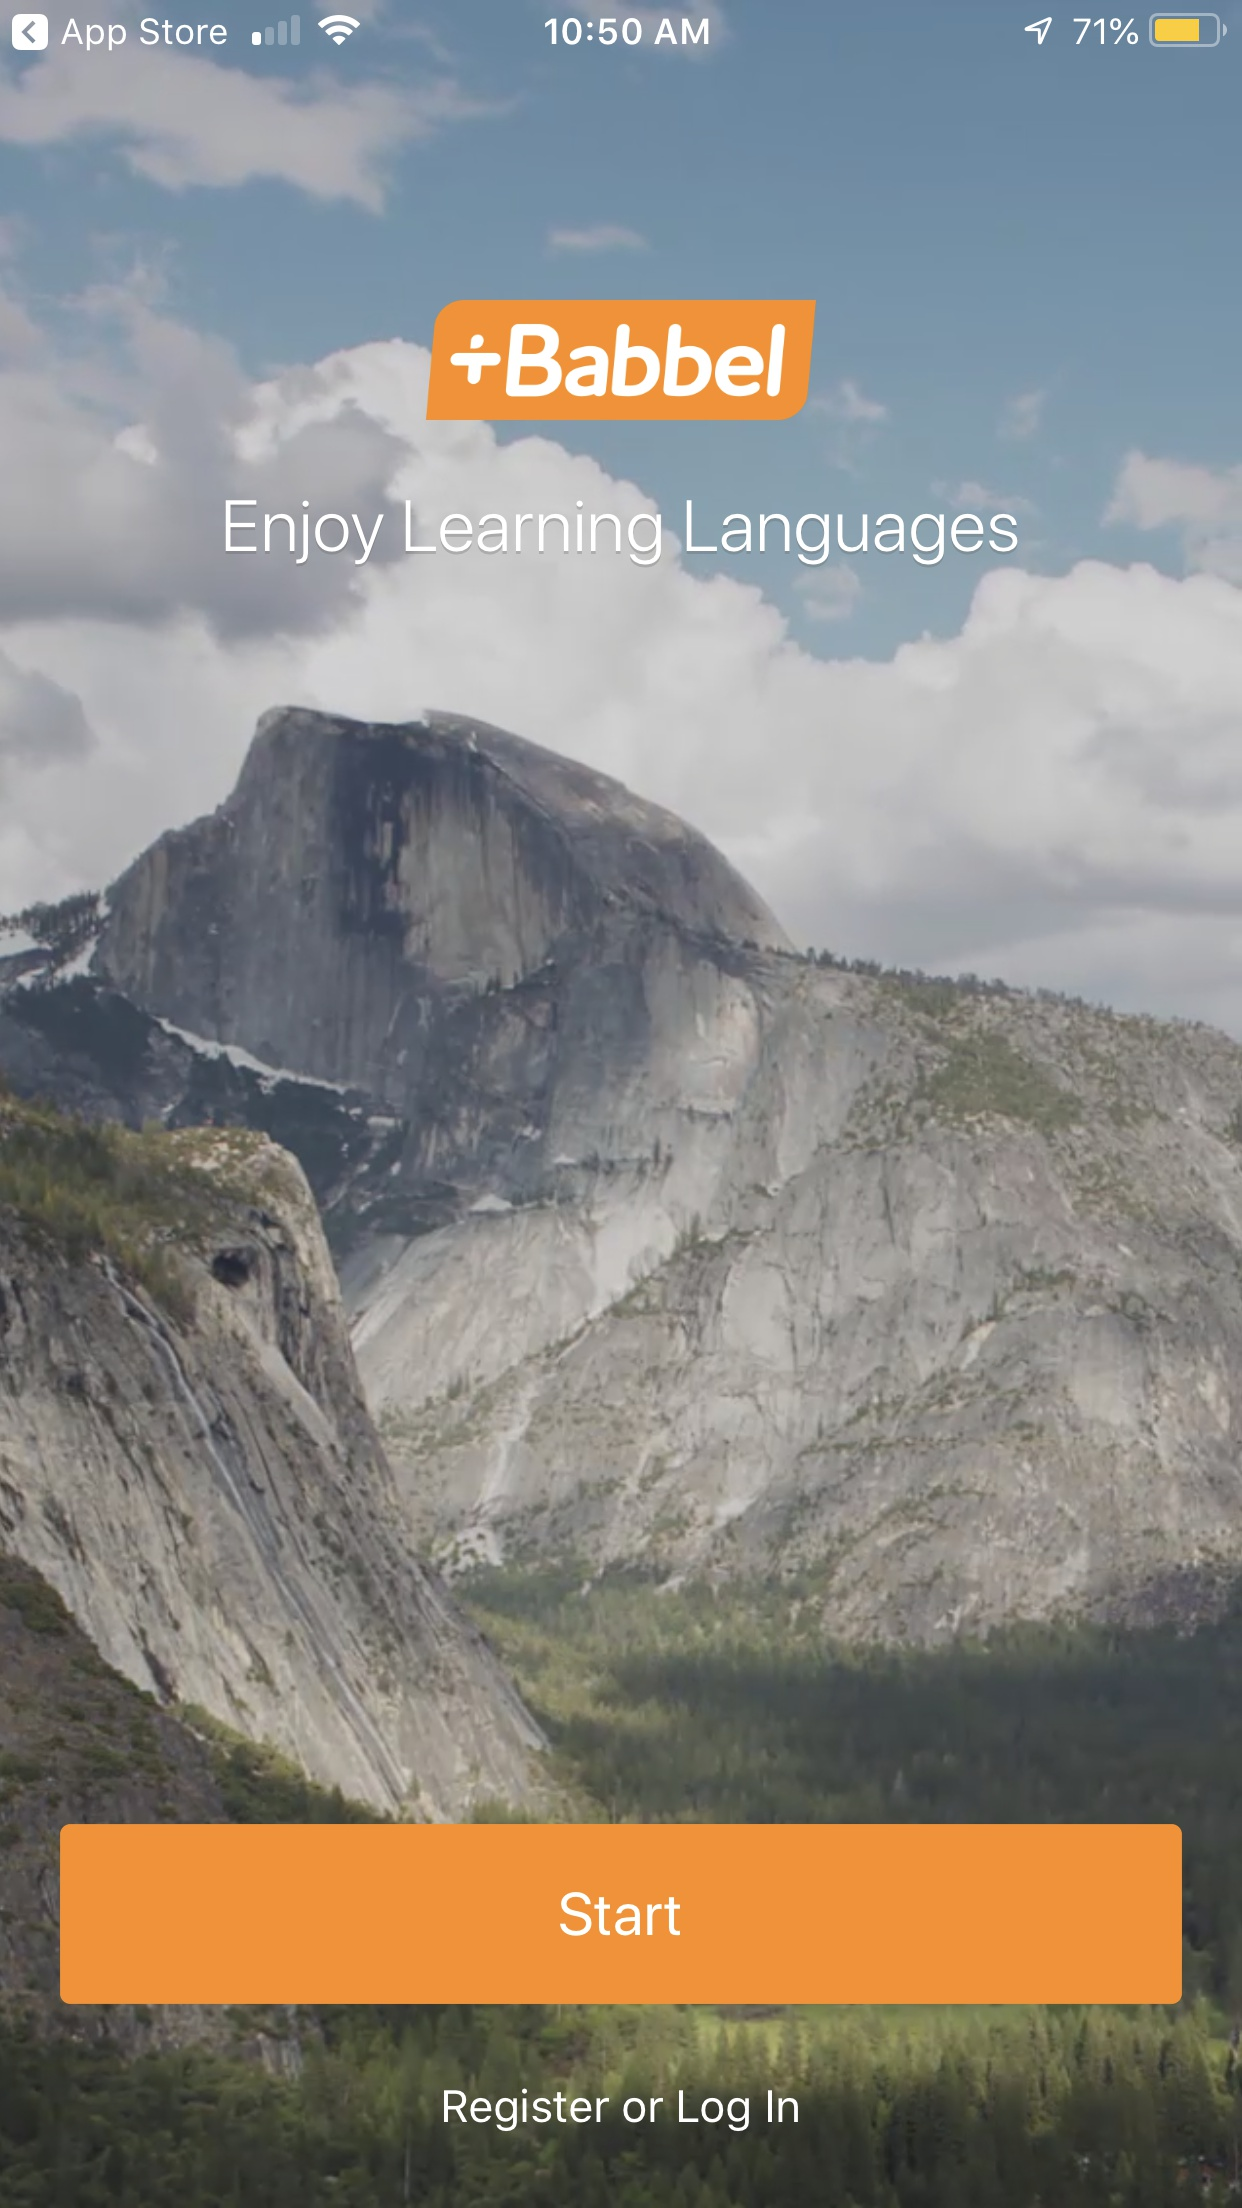BackgroundImage: (2, 2, 1242, 2208)
Image: (428, 300, 817, 422)
Text: (224, 500, 1019, 569), (443, 2087, 799, 2134)
TextButton: (61, 1823, 1183, 2005)
UpperTaskBar: (2, 2, 1242, 55)
